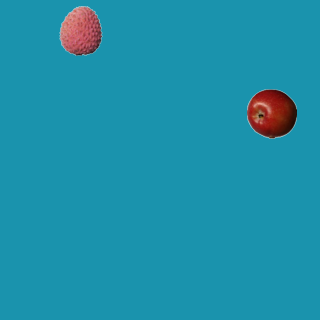Apple Braeburn: (246, 88, 296, 138)
Lychee: (55, 5, 105, 55)
